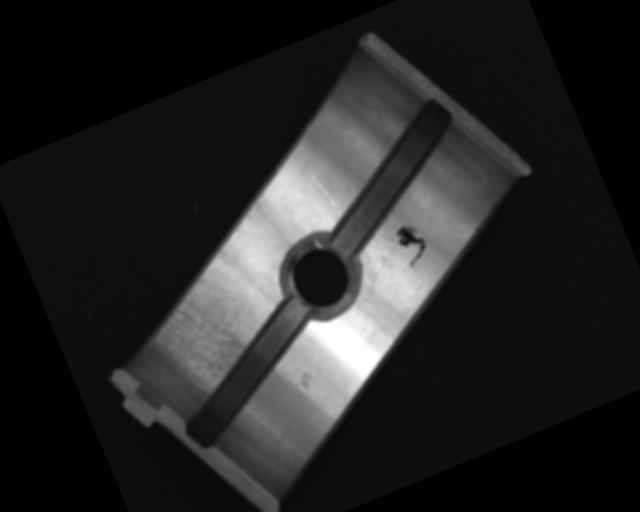blot: (391, 217, 434, 270)
bruise: (293, 369, 318, 394)
gap: (297, 93, 489, 258), (156, 297, 339, 451)
hole: (270, 223, 374, 329)
nick: (307, 165, 334, 210)
scratch: (131, 255, 280, 402)
